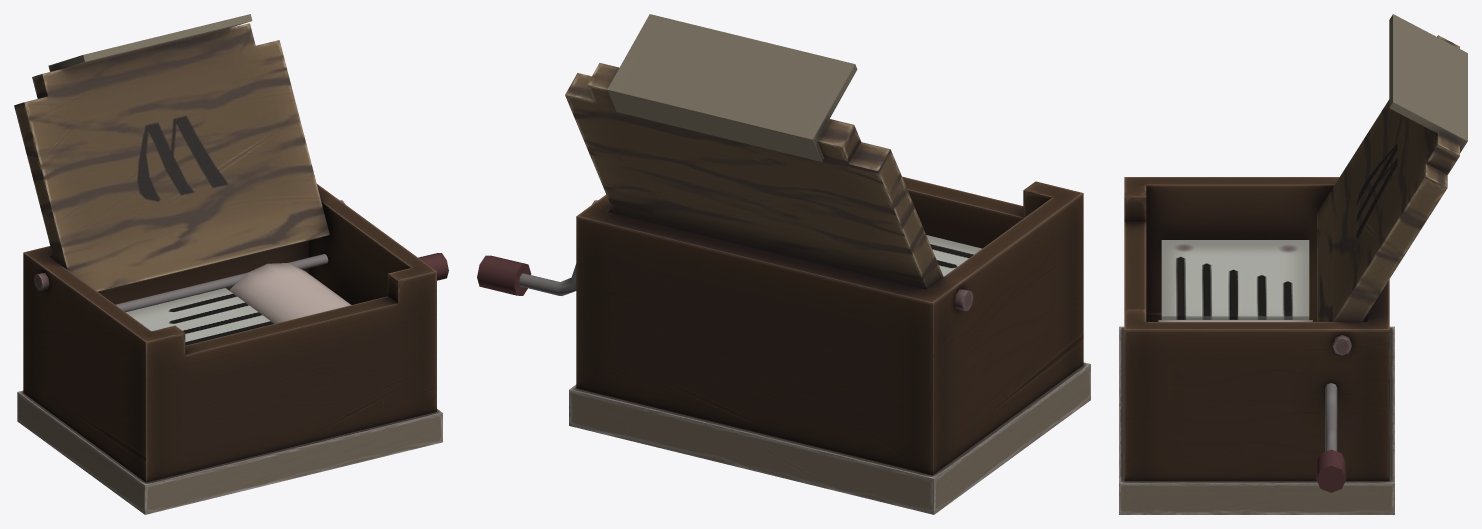
File: lure_music_box.gltf
3 renders of one model, left to right at view 1: azimuth 30°, elevation 25°; view 2: azimuth 150°, elevation 25°; view 3: azimuth 270°, elevation 25°, orthographic. The views are drawn at different scales.
Parts seen in each view (by area): view 1: Box, Lid, MusicLeaf, Cylinder, Handle; view 2: Box, Lid, Handle, MusicLeaf; view 3: Box, Lid, MusicLeaf, Handle.
Part boxes in pixels (left/top/right/bottom): Box: left=17, top=184, right=442, bottom=514; Lid: left=14, top=14, right=329, bottom=291; MusicLeaf: left=126, top=288, right=274, bottom=345; Cylinder: left=229, top=263, right=351, bottom=323; Handle: left=115, top=253, right=448, bottom=312; Box: left=569, top=176, right=1090, bottom=514; Lid: left=565, top=14, right=943, bottom=289; Handle: left=477, top=255, right=576, bottom=295; MusicLeaf: left=926, top=235, right=981, bottom=276; Box: left=1119, top=177, right=1394, bottom=514; Lid: left=1317, top=14, right=1467, bottom=321; MusicLeaf: left=1161, top=240, right=1309, bottom=319; Handle: left=1316, top=383, right=1346, bottom=492.
Bounding box in the file's own units: 116 × 97.62 × 81.52.
Materials: 1 (1 with a texture image).
